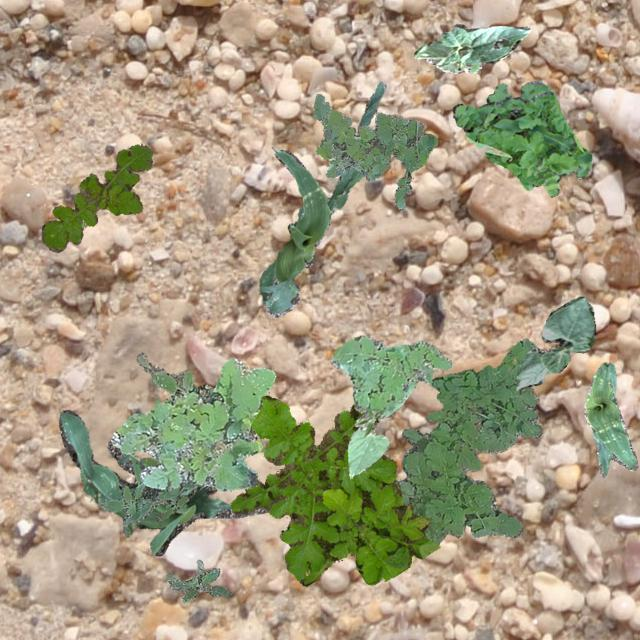crop: (58, 408, 268, 554), (258, 80, 384, 316), (514, 296, 594, 390), (347, 380, 417, 476), (582, 362, 636, 478), (414, 22, 530, 74)
weed: (230, 394, 438, 584), (394, 338, 542, 544), (110, 356, 274, 491), (452, 80, 590, 196), (312, 92, 436, 208), (40, 142, 152, 252), (328, 334, 452, 412), (102, 456, 195, 536), (136, 352, 212, 396), (164, 558, 232, 602)
